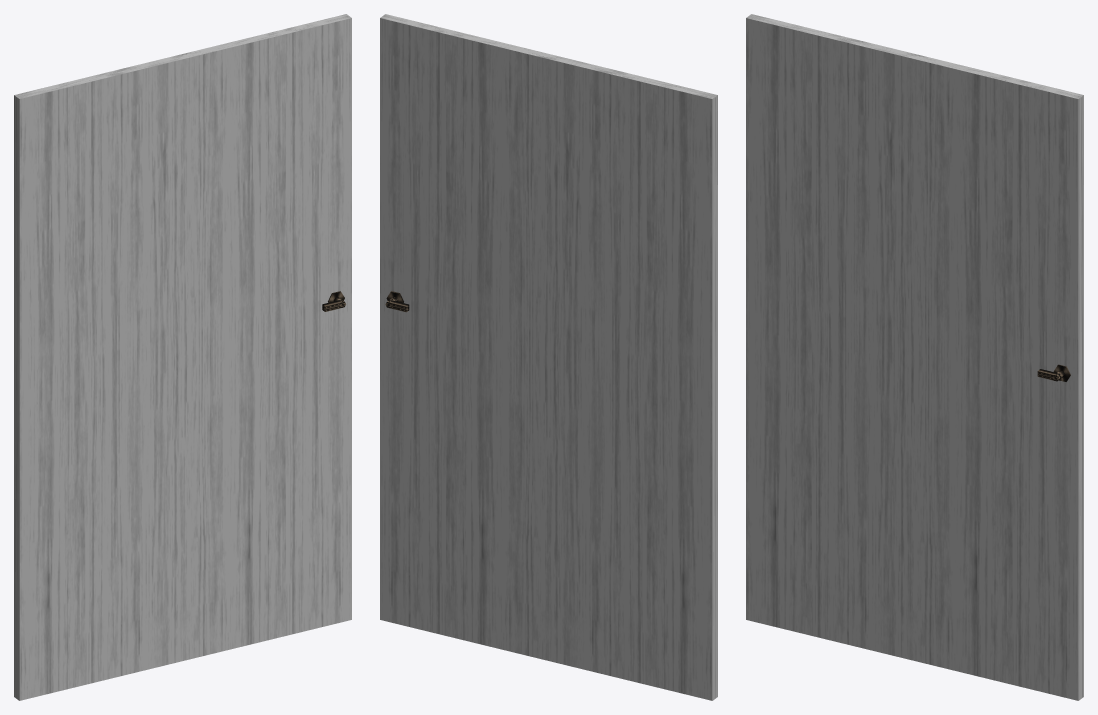
Rendered from door.fbx.
3 renders of one model, left to right at view 1: azimuth 30°, elevation 25°; view 2: azimuth 150°, elevation 25°; view 3: azimuth 330°, elevation 25°, orthographic.
Parts seen in each view (by area): view 1: door; view 2: door; view 3: door.
Part boxes in pixels (x1,y1,x2,y2): door: (14,14,351,700); door: (380,14,717,700); door: (746,14,1083,700).
Bounding box in the file's own units: 3.21 × 5.56 × 0.3312.
